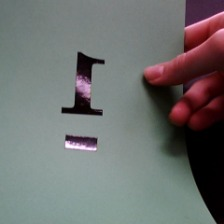green1: (55, 44, 122, 167)
